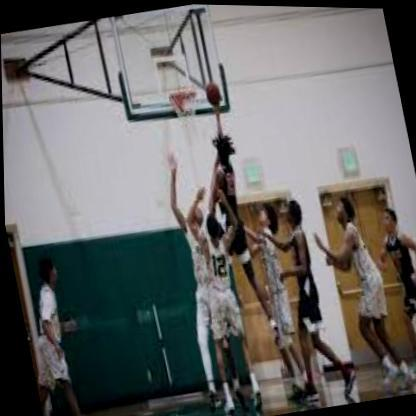basketball: (203, 79, 222, 106)
rim: (168, 85, 199, 105)
